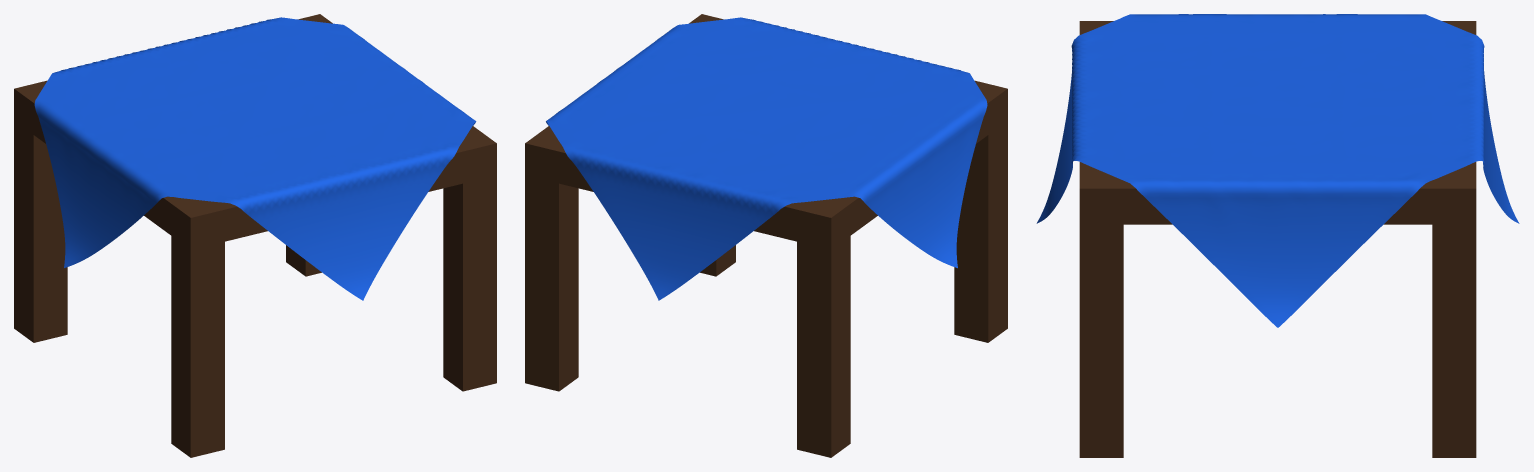
The model's file is phycisctask-table.fbx.
3 renders of one model, left to right at view 1: azimuth 30°, elevation 25°; view 2: azimuth 150°, elevation 25°; view 3: azimuth 270°, elevation 25°, orthographic. The views are drawn at different scales.
Parts seen in each view (by area): view 1: Plane, Cube; view 2: Plane, Cube; view 3: Plane, Cube.
Boxes of the visible parts, x1,y1,x2,y2 form: Plane: (34,17,476,300); Cube: (14,14,496,457); Plane: (546,17,987,300); Cube: (525,14,1007,457); Plane: (1036,14,1519,327); Cube: (1079,21,1476,457).
Size of the model in its own units: 250 by 154 by 244.
